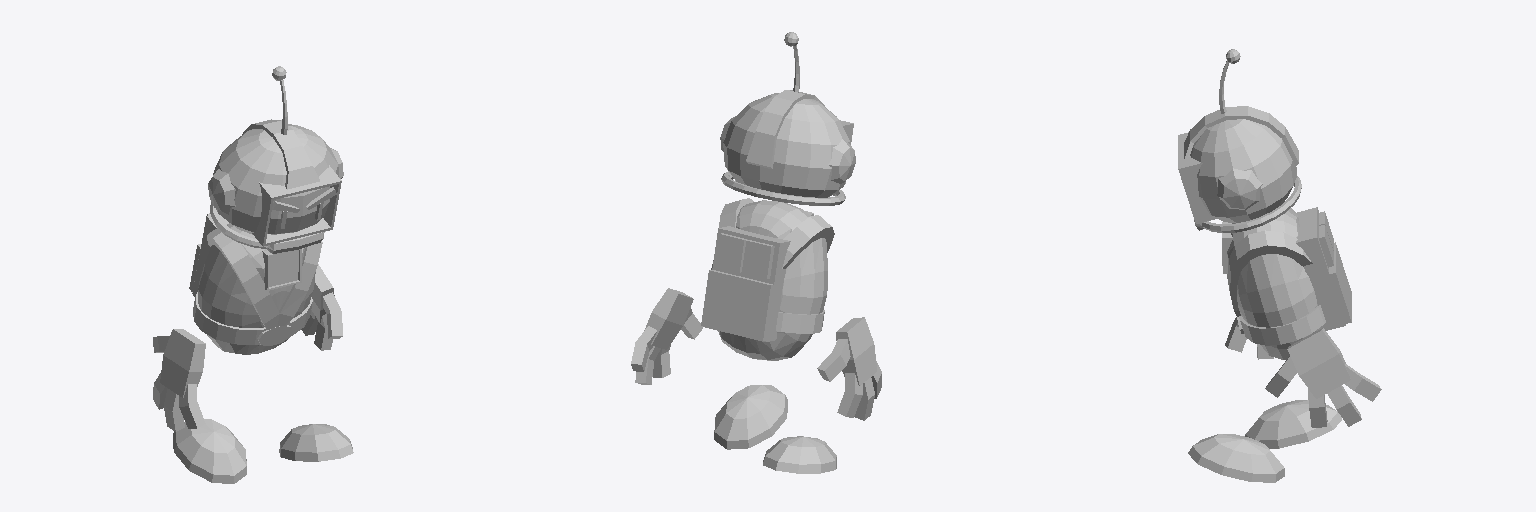
Rendered from bomberman_000006.obj.
3 views of the same model, side by side, from view 1: azimuth 30°, elevation 25°; view 2: azimuth 150°, elevation 25°; view 3: azimuth 270°, elevation 25° (orthographic).
Parts seen in each view (by area): view 1: BM_BODY.002_Mesh.009, BM_Head.002_Mesh.005, BM_Head.001_Mesh.004, BM_BODY.001_Mesh.008, R_Hand_Mesh.003, R_Foot_Mesh.001, L_Foot_Mesh, L_Hand_Mesh.002; view 2: BM_BODY.002_Mesh.009, BM_Head.002_Mesh.005, BM_BODY.001_Mesh.008, BM_Head.001_Mesh.004, R_Hand_Mesh.003, L_Foot_Mesh, L_Hand_Mesh.002, R_Foot_Mesh.001; view 3: BM_BODY.002_Mesh.009, BM_Head.002_Mesh.005, BM_BODY.001_Mesh.008, BM_Head.001_Mesh.004, L_Hand_Mesh.002, L_Foot_Mesh, R_Foot_Mesh.001, R_Hand_Mesh.003.
Part boxes in pixels (x1,y1,x2,y2): BM_BODY.002_Mesh.009: (189,213,322,345); BM_Head.002_Mesh.005: (213,124,338,253); BM_Head.001_Mesh.004: (208,119,343,248); BM_BODY.001_Mesh.008: (198,223,315,354); R_Hand_Mesh.003: (153,329,205,431); R_Foot_Mesh.001: (173,419,246,483); L_Foot_Mesh: (279,424,353,461); L_Hand_Mesh.002: (301,264,342,350); BM_BODY.002_Mesh.009: (701,198,834,341); BM_Head.002_Mesh.005: (723,93,850,197); BM_BODY.001_Mesh.008: (711,200,827,360); BM_Head.001_Mesh.004: (720,90,855,205); R_Hand_Mesh.003: (817,317,881,420); L_Foot_Mesh: (714,385,787,449); L_Hand_Mesh.002: (631,288,702,384); R_Foot_Mesh.001: (763,436,836,473); BM_BODY.002_Mesh.009: (1222,207,1351,345); BM_Head.002_Mesh.005: (1190,119,1296,230); BM_BODY.001_Mesh.008: (1227,210,1322,359); BM_Head.001_Mesh.004: (1178,106,1301,232); L_Hand_Mesh.002: (1265,328,1381,427); L_Foot_Mesh: (1188,434,1284,482); R_Foot_Mesh.001: (1245,400,1341,448); R_Hand_Mesh.003: (1225,317,1273,359).
Size of the model in its own units: 3.91 by 7.98 by 3.57.